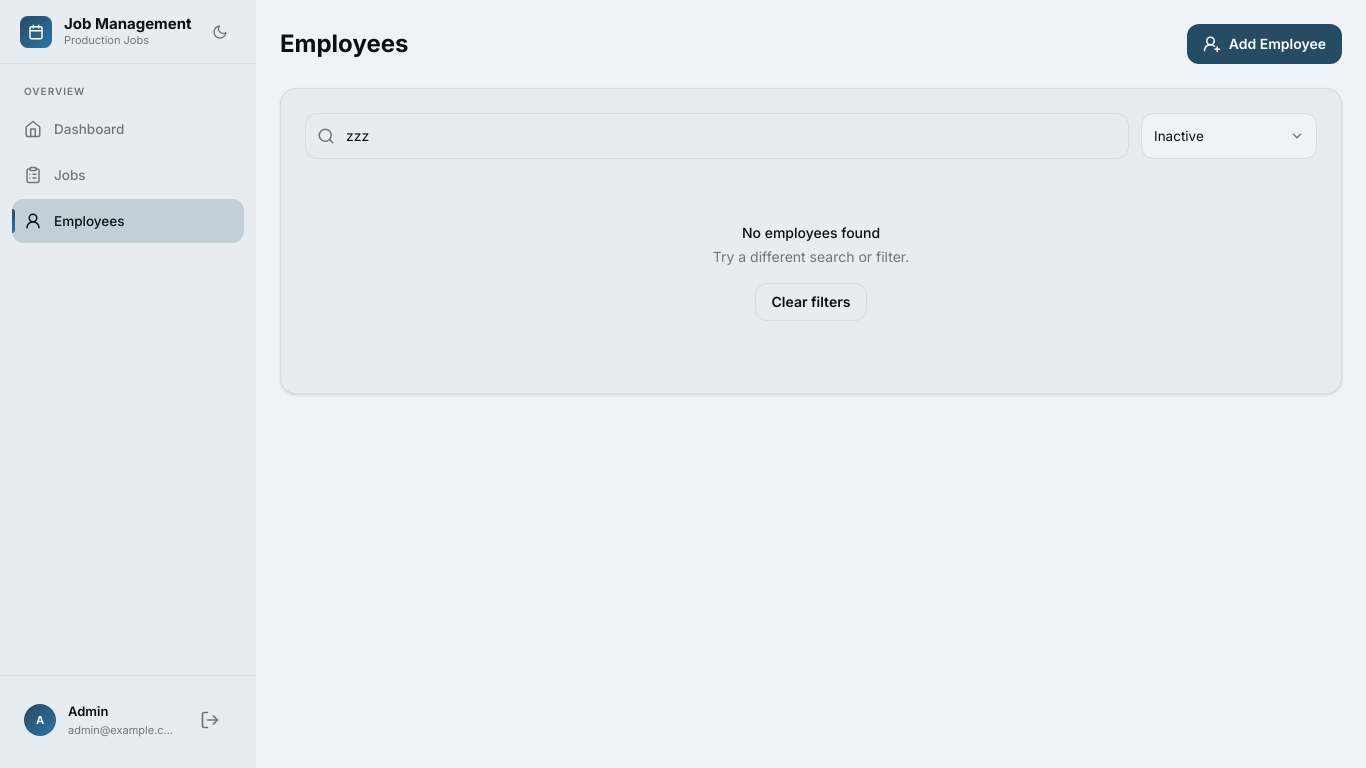
Scenario: employees list states › shows a filtered empty state and clears the filters
Expected: the text "Try a different search or filter." is shown, [713,248,909,265]
What coordinates should you click on to do the following:
click the button "Clear filters"
I would click on:
 (811, 302)
Its box is [754,283,867,321].
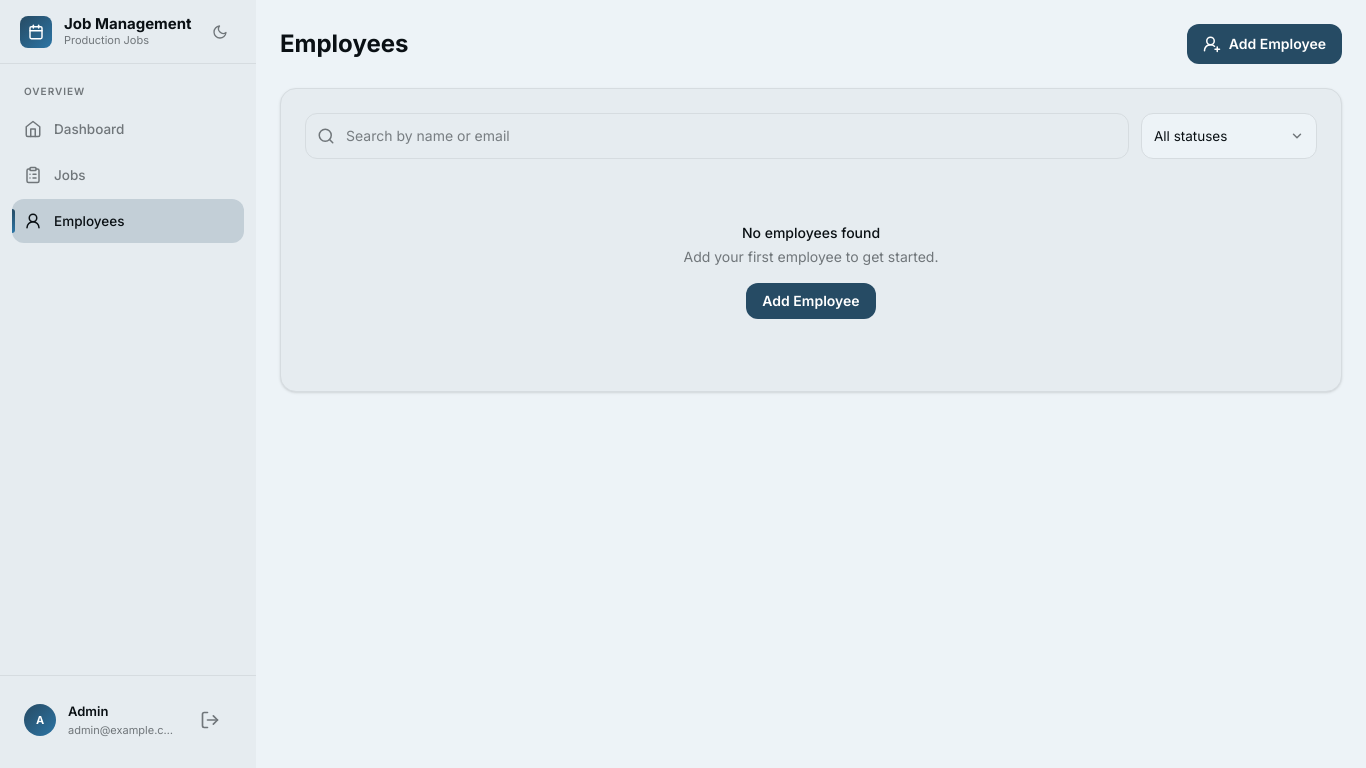
Expected: the search field named "Search employees" is empty, [305,113,1129,159]
